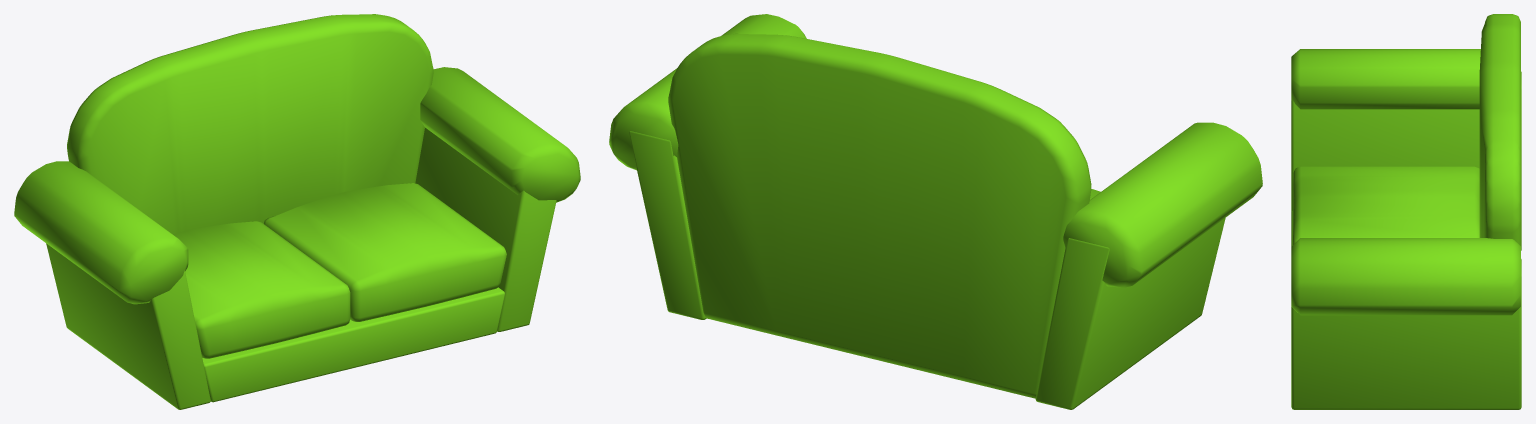
Rendered from Sofa.fbx.
3 renders of one model, left to right at view 1: azimuth 30°, elevation 25°; view 2: azimuth 150°, elevation 25°; view 3: azimuth 270°, elevation 25°, orthographic. The views are drawn at different scales.
Parts seen in each view (by area): view 1: sofa; view 2: sofa; view 3: sofa.
Boxes of the visible parts, x1,y1,x2,y2 form: sofa: (14,14,580,409); sofa: (609,14,1262,409); sofa: (1291,14,1521,409).
Size of the model in its own units: 285 by 151 by 122.
